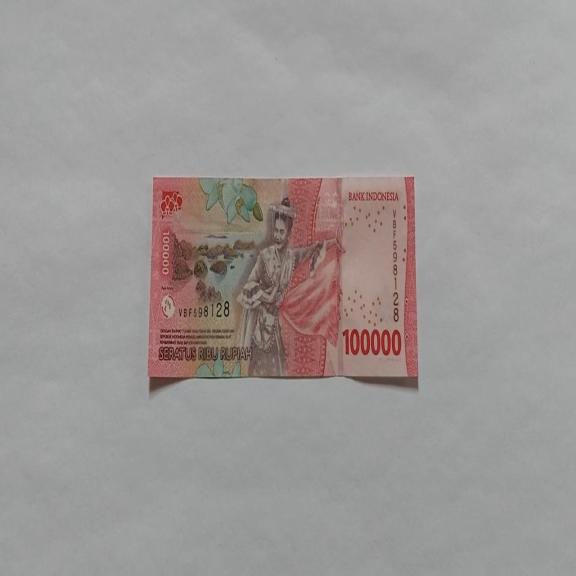Kertas: (147, 174, 418, 384), (341, 326, 402, 358)
